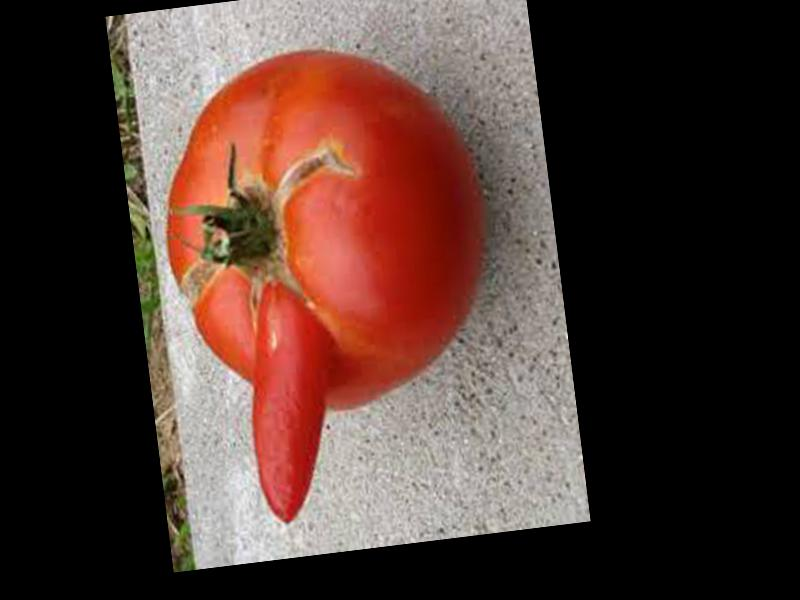Tomato: (144, 29, 495, 429)
